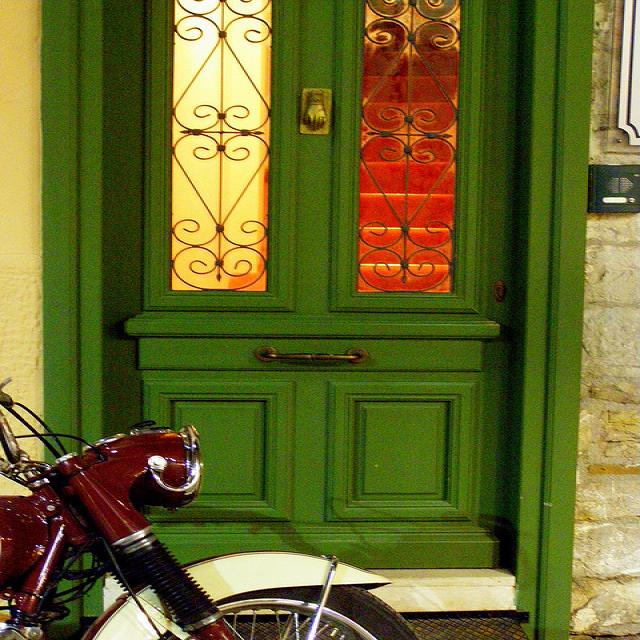motor: (4, 374, 422, 630)
